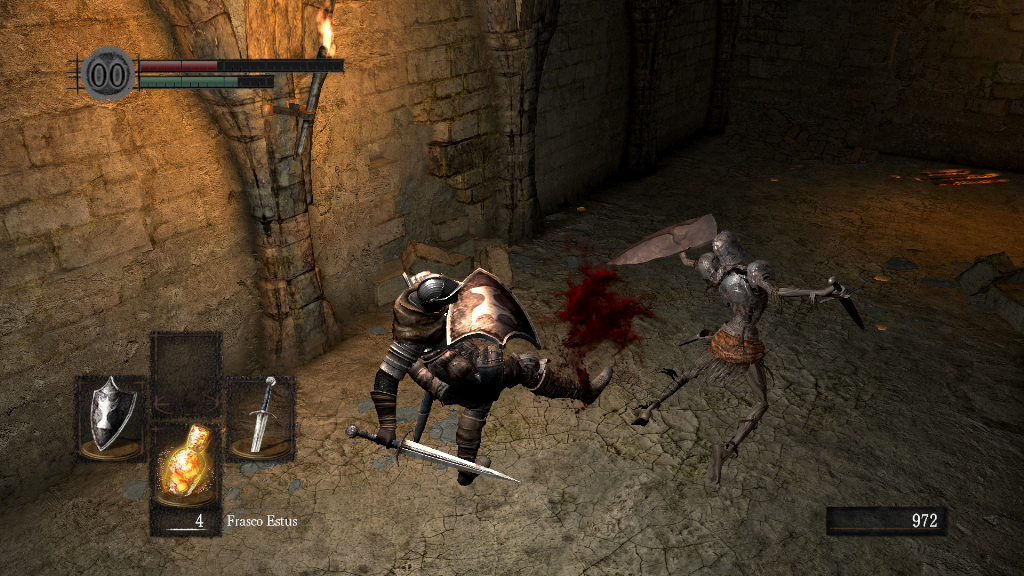health: (138, 58, 343, 71)
humanity: (80, 45, 136, 102)
player: (346, 269, 615, 486)
souls: (825, 506, 945, 536)
stamina: (138, 74, 274, 88)
undeadSoldier: (633, 232, 853, 489)
